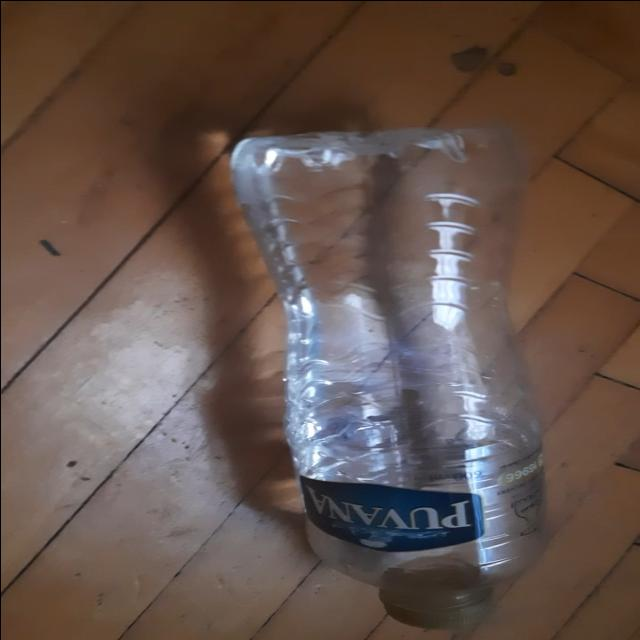Plastic: (227, 122, 549, 630)
